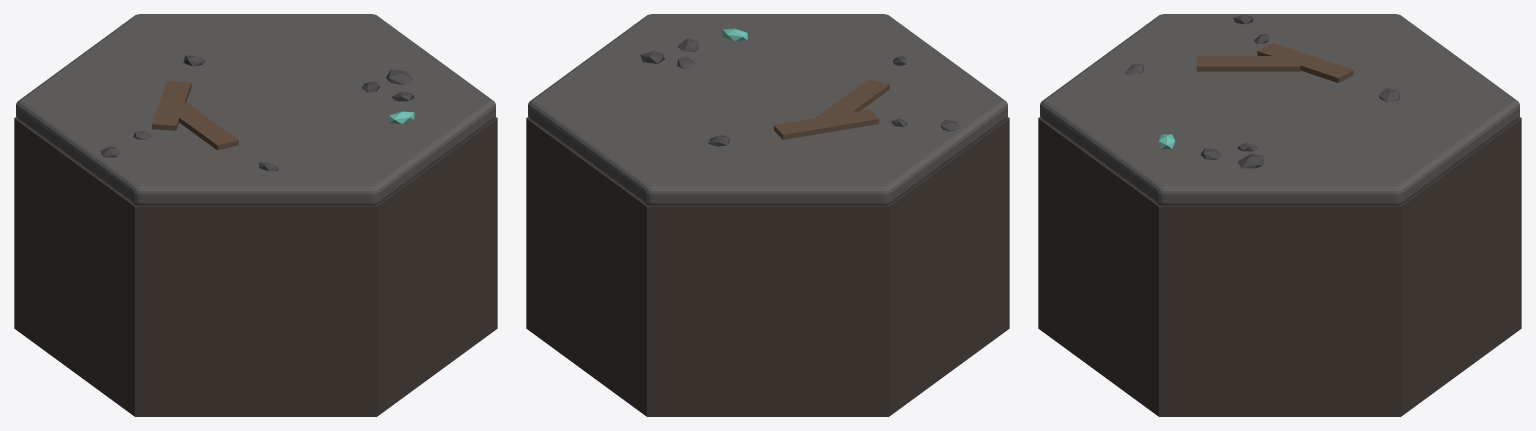
File: hex_mine.glb
3 views of the same model, side by side, from view 1: azimuth 30°, elevation 25°; view 2: azimuth 150°, elevation 25°; view 3: azimuth 270°, elevation 25° (orthographic).
Visible parts, largest first — view 1: hex_mine; view 2: hex_mine; view 3: hex_mine.
Boxes of the visible parts, x1,y1,x2,y2 form: hex_mine: [14, 14, 497, 416]; hex_mine: [526, 14, 1009, 416]; hex_mine: [1038, 14, 1521, 416].
Bounding box in the file's own units: 1.7 × 1.05 × 1.96.
